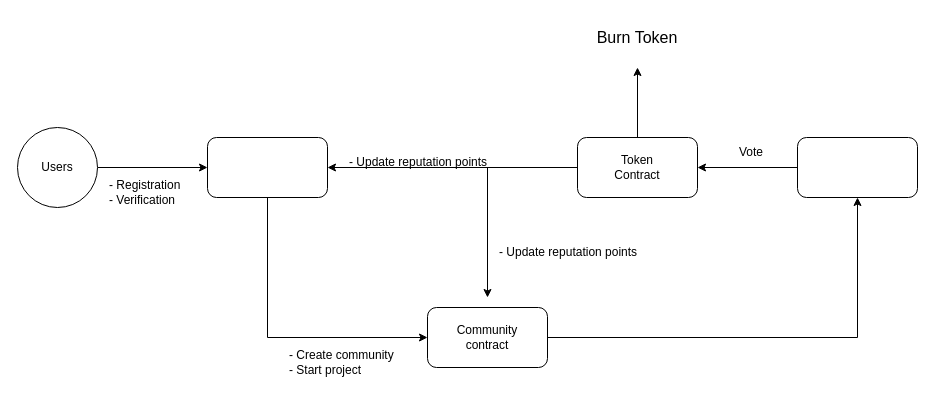
Image size: 935x394. Some labels were removed from this diagram. Each missing label, with the box of its shape:
Project Contract: (796, 136, 918, 198)
SS Platform: (206, 136, 328, 198)
